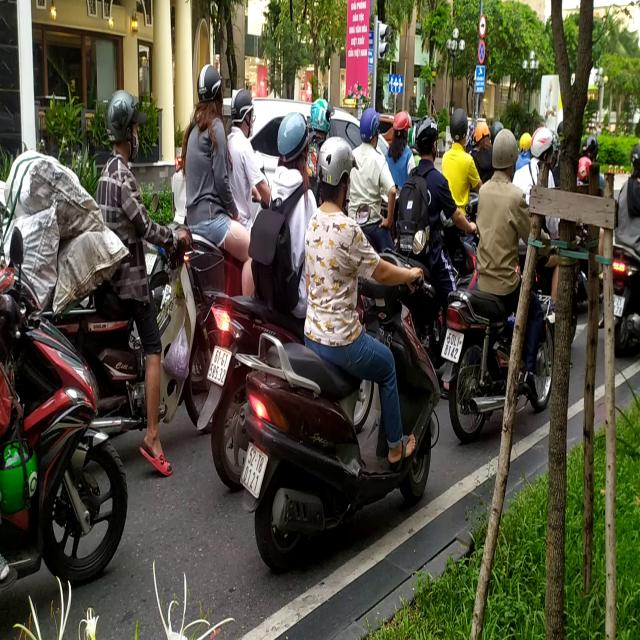bien_trang: (239, 441, 273, 502), (436, 325, 465, 370), (207, 339, 233, 389)
